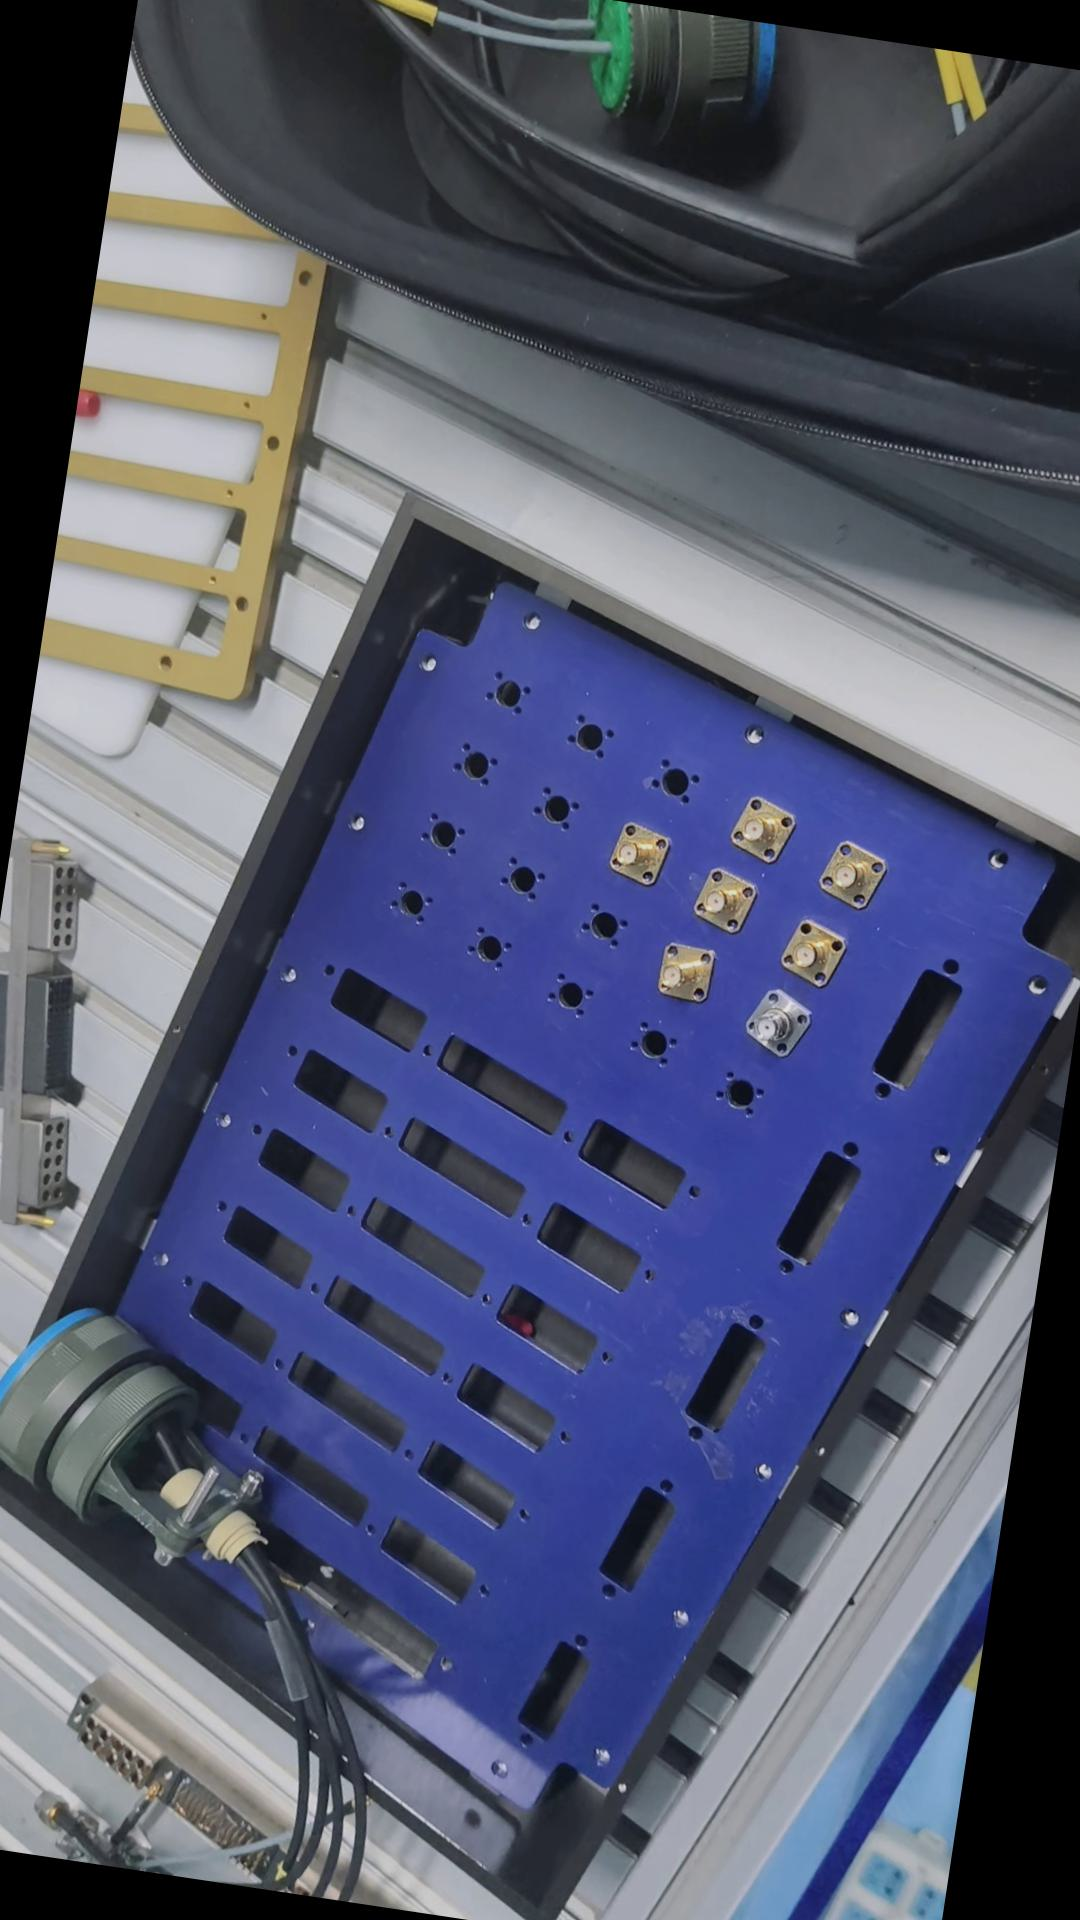SMA: (720, 789, 796, 865), (815, 829, 887, 907), (777, 913, 848, 986), (684, 866, 761, 934), (644, 940, 720, 1007), (597, 820, 667, 890), (742, 986, 812, 1052)
